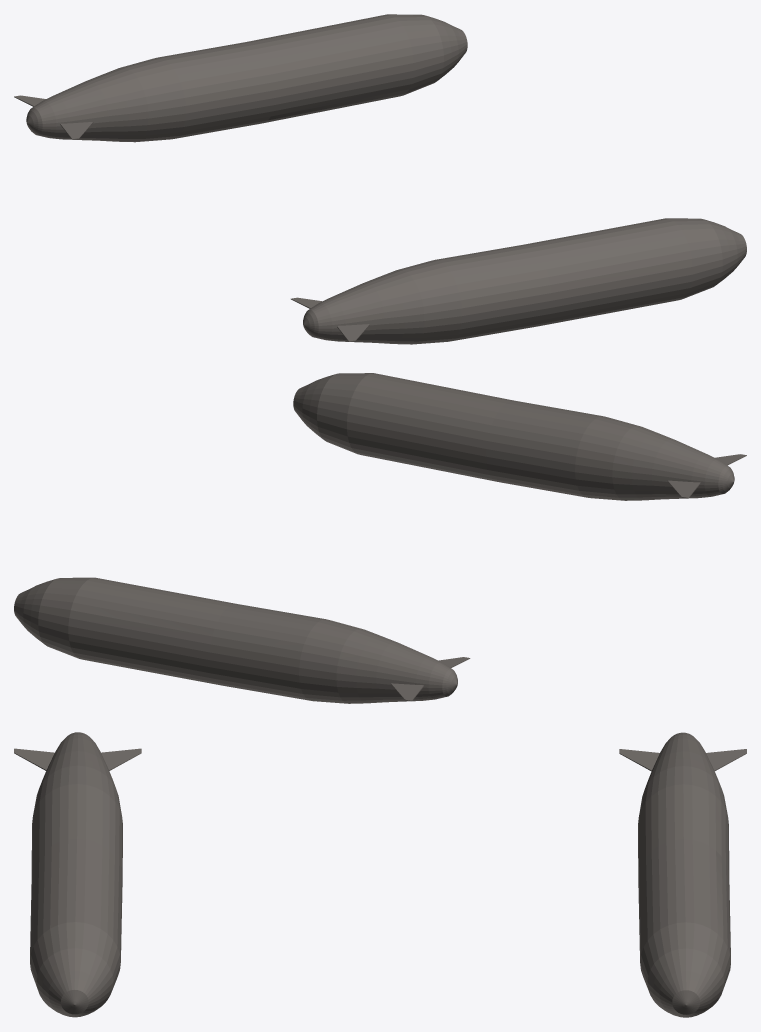
3 views of the same model, one above another, from view 1: azimuth 30°, elevation 25°; view 2: azimuth 150°, elevation 25°; view 3: azimuth 270°, elevation 25° (orthographic). The views are drawn at different scales.
Parts seen in each view (by area): view 1: 円柱.005, 円柱.006; view 2: 円柱.006, 円柱.005; view 3: 円柱.006, 円柱.005.
Boxes of the visible parts, x1,y1,x2,y2 form: 円柱.005: (291,218,746,344); 円柱.006: (14,14,467,142); 円柱.006: (14,577,470,703); 円柱.005: (293,373,746,500); 円柱.006: (619,732,746,1017); 円柱.005: (14,732,141,1017).
Bounding box in the file's own units: 3.35 × 0.6492 × 4.41.
1 material, 1 textured.
